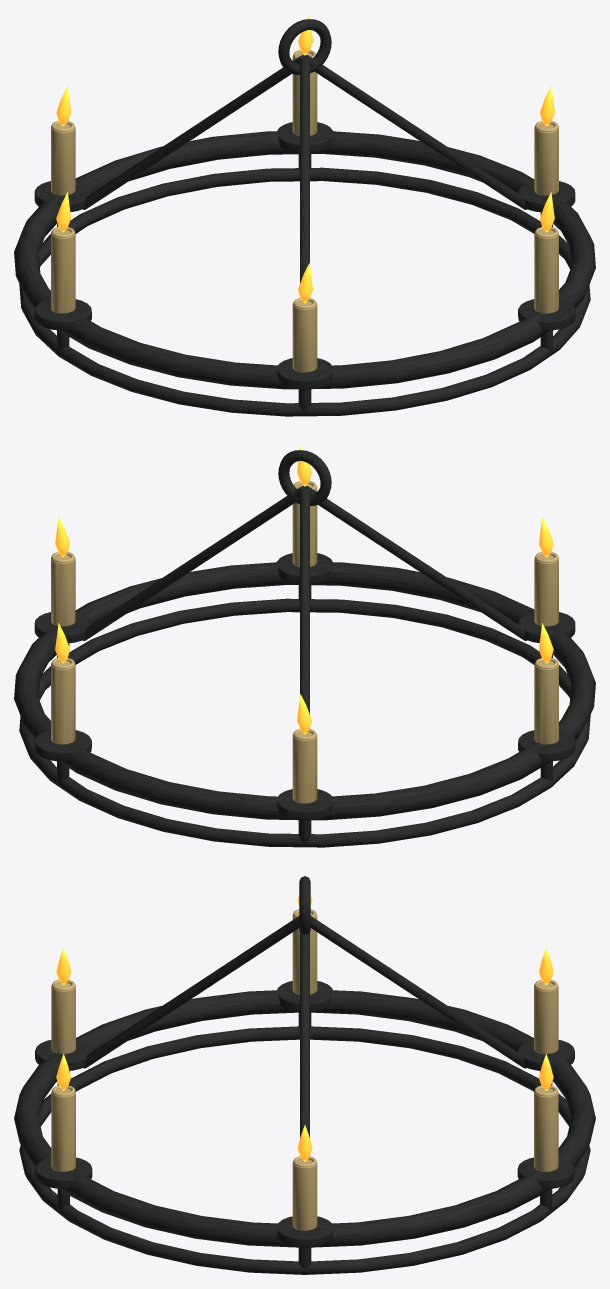
The model's file is tavern-chandelier.glb.
3 views of the same model, one above another, from view 1: azimuth 30°, elevation 25°; view 2: azimuth 150°, elevation 25°; view 3: azimuth 270°, elevation 25° (orthographic).
Visible parts, largest first — view 1: tavern-chandelier - Tavern forged black iron runtime PBR, tavern-chandelier - Tavern beeswax candle runtime PBR, tavern-chandelier - Tavern amber flame runtime PBR; view 2: tavern-chandelier - Tavern forged black iron runtime PBR, tavern-chandelier - Tavern beeswax candle runtime PBR, tavern-chandelier - Tavern amber flame runtime PBR; view 3: tavern-chandelier - Tavern forged black iron runtime PBR, tavern-chandelier - Tavern beeswax candle runtime PBR, tavern-chandelier - Tavern amber flame runtime PBR.
Boxes of the visible parts, x1=… form: tavern-chandelier - Tavern forged black iron runtime PBR: x1=14, y1=19, x2=595, y2=416; tavern-chandelier - Tavern beeswax candle runtime PBR: x1=51, y1=50, x2=558, y2=372; tavern-chandelier - Tavern amber flame runtime PBR: x1=56, y1=15, x2=554, y2=303; tavern-chandelier - Tavern forged black iron runtime PBR: x1=14, y1=450, x2=595, y2=847; tavern-chandelier - Tavern beeswax candle runtime PBR: x1=51, y1=481, x2=558, y2=803; tavern-chandelier - Tavern amber flame runtime PBR: x1=55, y1=446, x2=553, y2=734; tavern-chandelier - Tavern forged black iron runtime PBR: x1=14, y1=876, x2=595, y2=1274; tavern-chandelier - Tavern beeswax candle runtime PBR: x1=51, y1=909, x2=558, y2=1230; tavern-chandelier - Tavern amber flame runtime PBR: x1=56, y1=895, x2=553, y2=1161.
Size of the model in its own units: 1.39 by 0.694 by 1.32.
4 materials, 1 textured.
